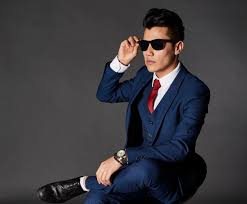asian_male: (130, 19, 178, 72)
